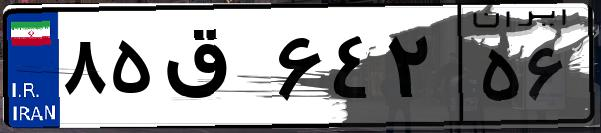2: (385, 28, 445, 110)
4: (330, 28, 385, 110)
5: (475, 38, 525, 113), (110, 28, 158, 98)
6: (270, 28, 330, 110), (525, 38, 570, 115)
8: (57, 26, 110, 100)
ق: (158, 20, 270, 120)
